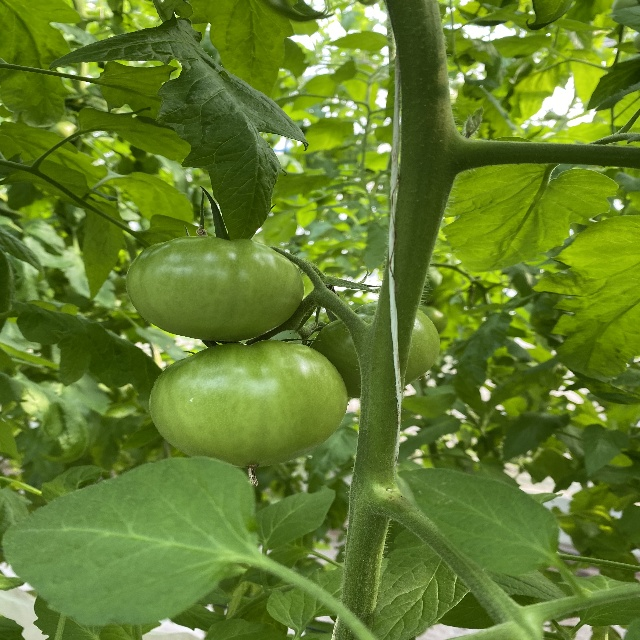b_green: (149, 340, 348, 467), (125, 236, 305, 342), (309, 300, 440, 400)
